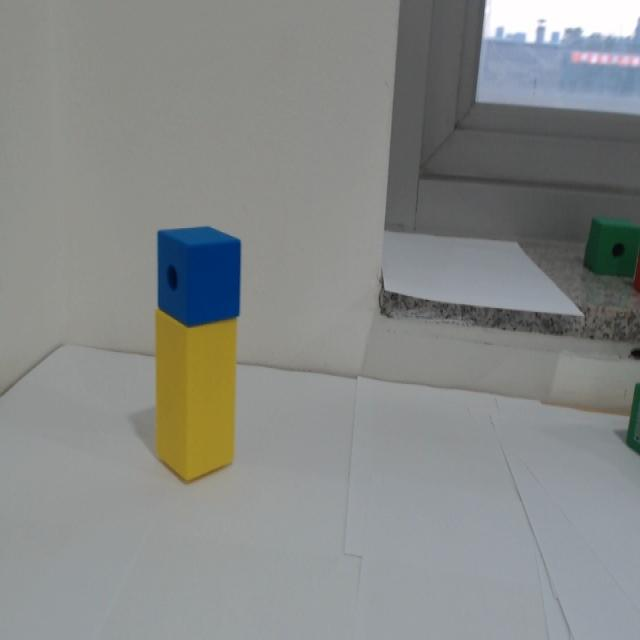cube: (156, 221, 243, 328)
